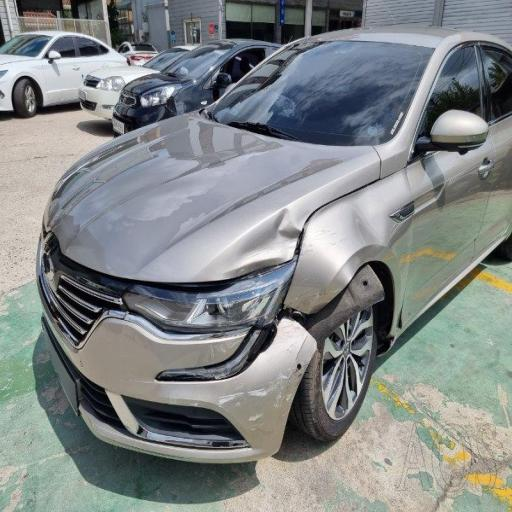broken: (126, 331, 299, 396)
dent: (169, 178, 315, 280)
scratch: (206, 373, 301, 455)
